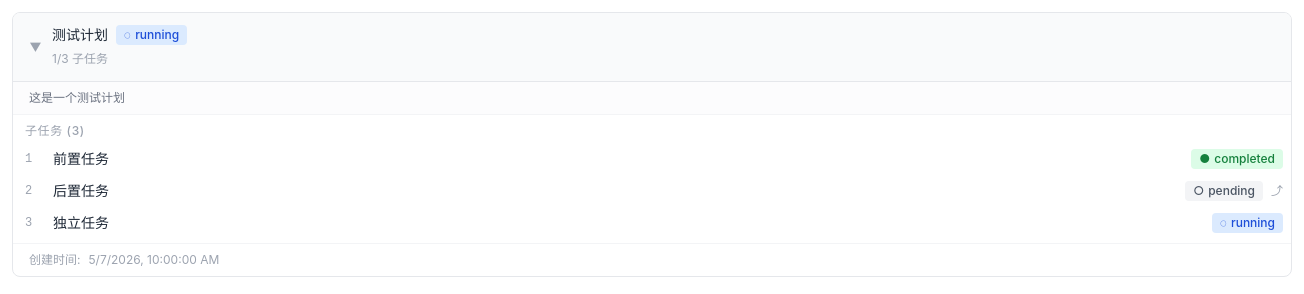
Test: PlanView › collapses when header clicked
Click the button "▶ 测试计划 ◌ running 1/3 子任务" at (80, 34), box [13,13,1291,81]
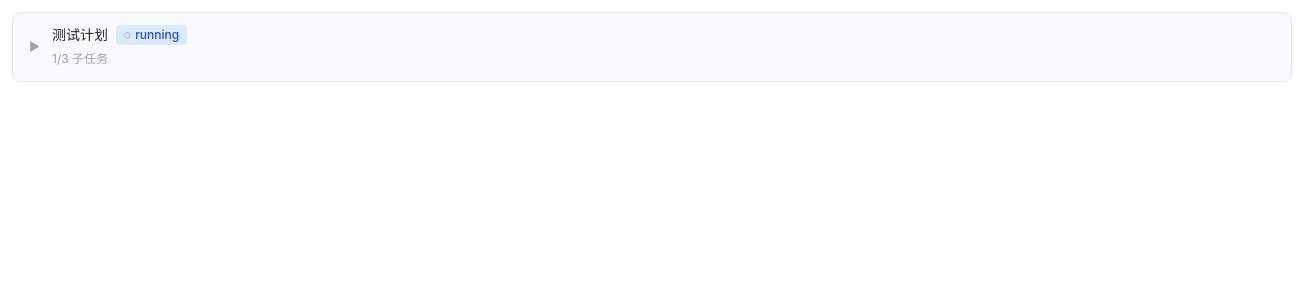
Check: the text "前置任务" is gone
